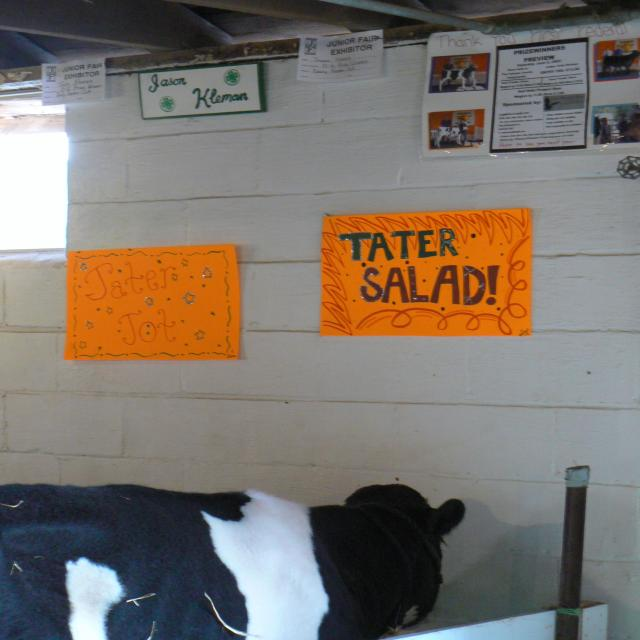cow: (0, 485, 465, 640)
